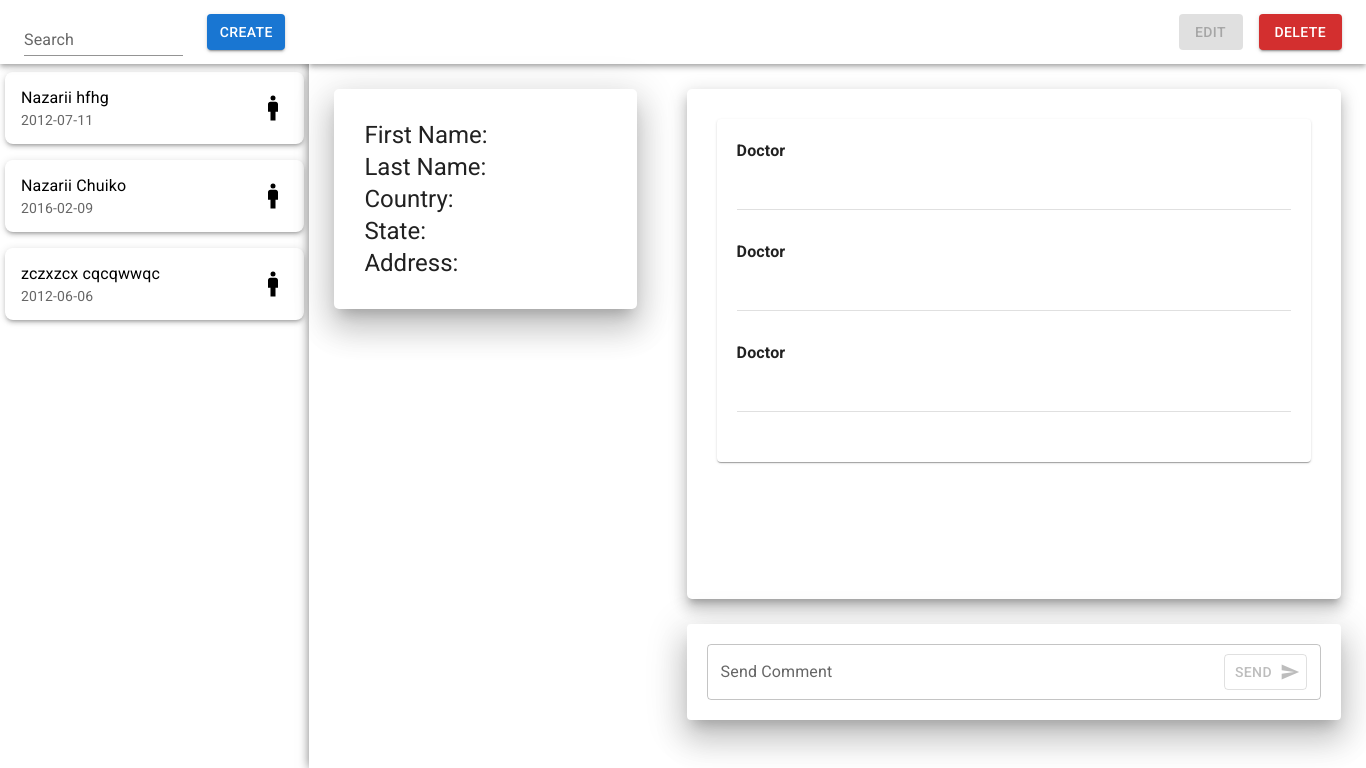
it: removal, creation and modification of the patient › should delete patient
This screenshot has width=1366, height=768.
Expected: the text "Nazarii Chuiko" is shown, [21,176,126,195]
Click the text "Nazarii hfhg" at (65, 98), box [21,88,109,107]
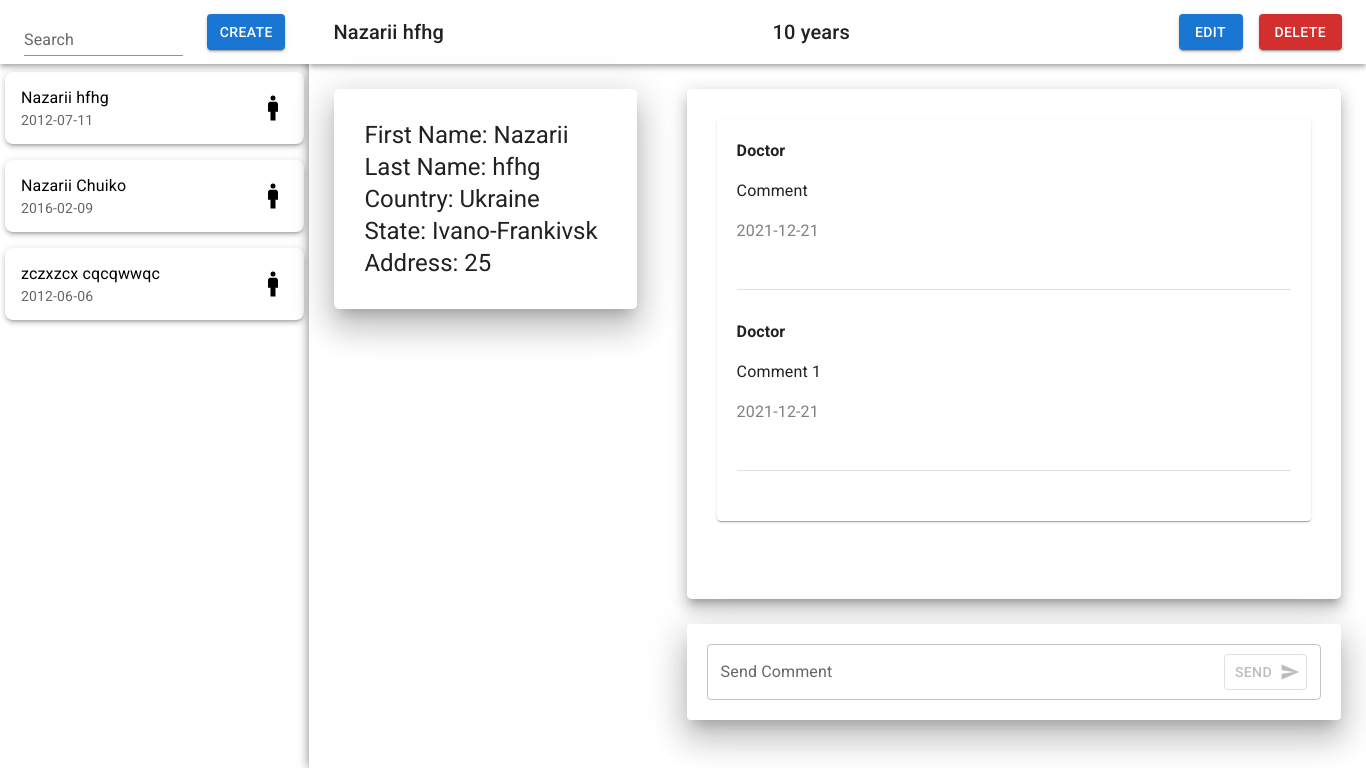
Result: the text "Country: Ukraine" is shown at [364,185,540,213]
Click the button "Delete" at (1300, 32), box [1258,14,1342,50]
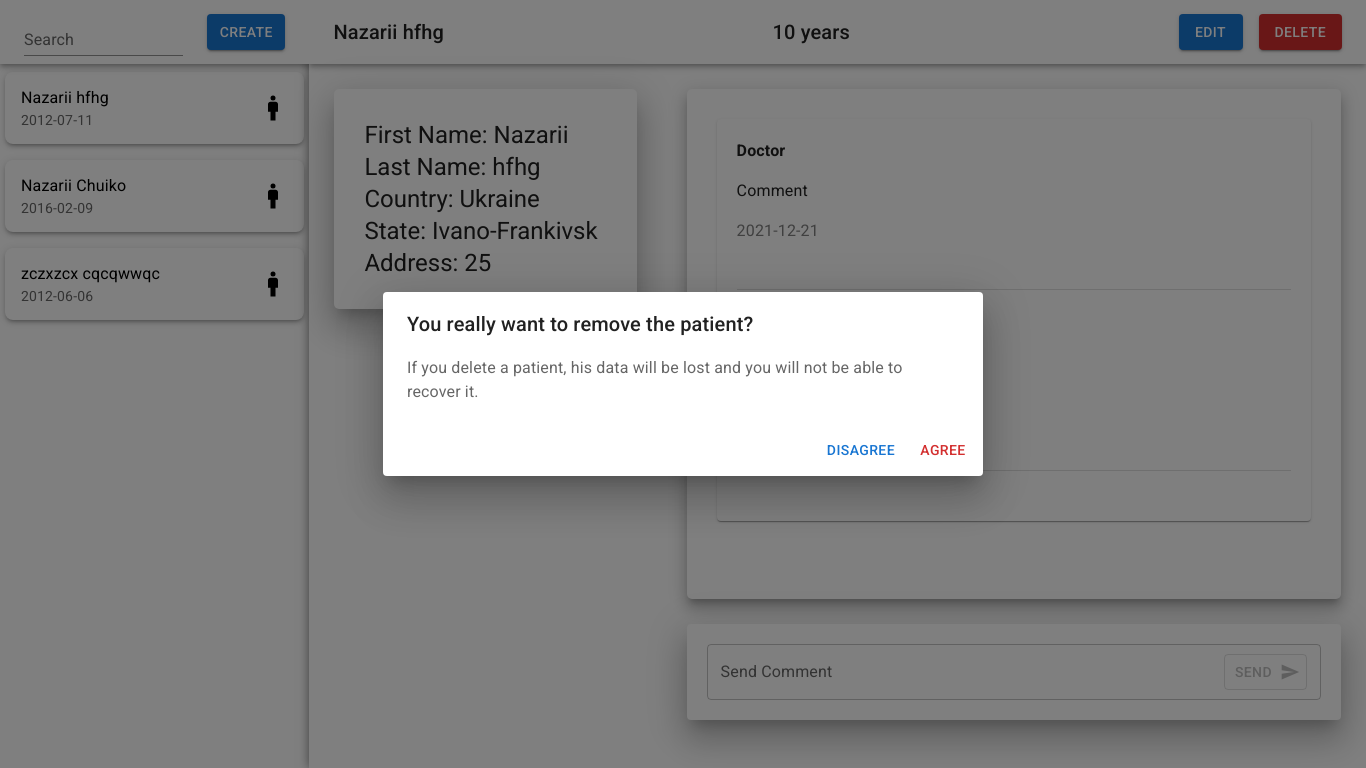
Click the button "Agree" at (943, 450), box [911,432,975,468]
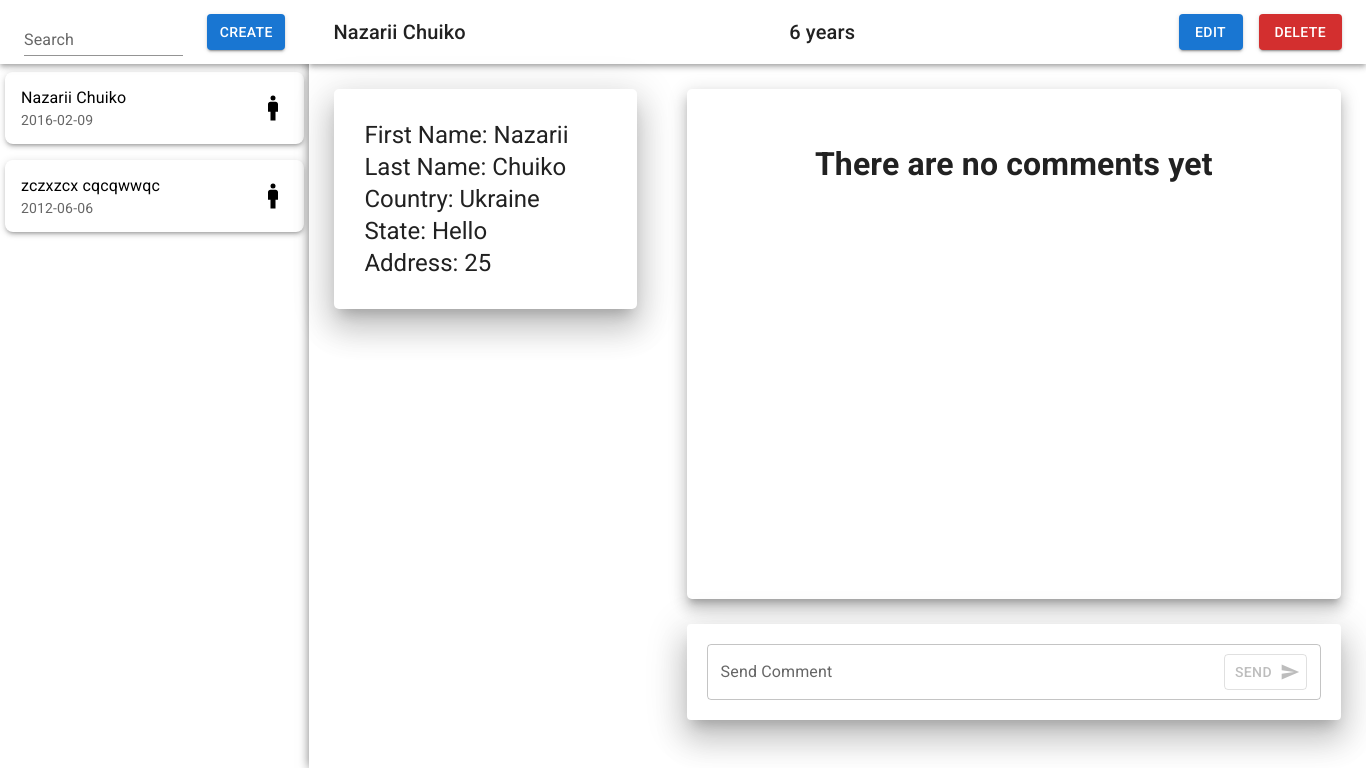
Result: the text "Address: 25" is shown at [364,249,491,277]
Result: the text "Last Name: Chuiko" is shown at [364,153,566,181]
Result: the text "State: Hello" is shown at [364,217,487,245]
